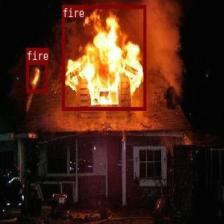fire: (61, 4, 146, 110), (25, 61, 47, 92)
